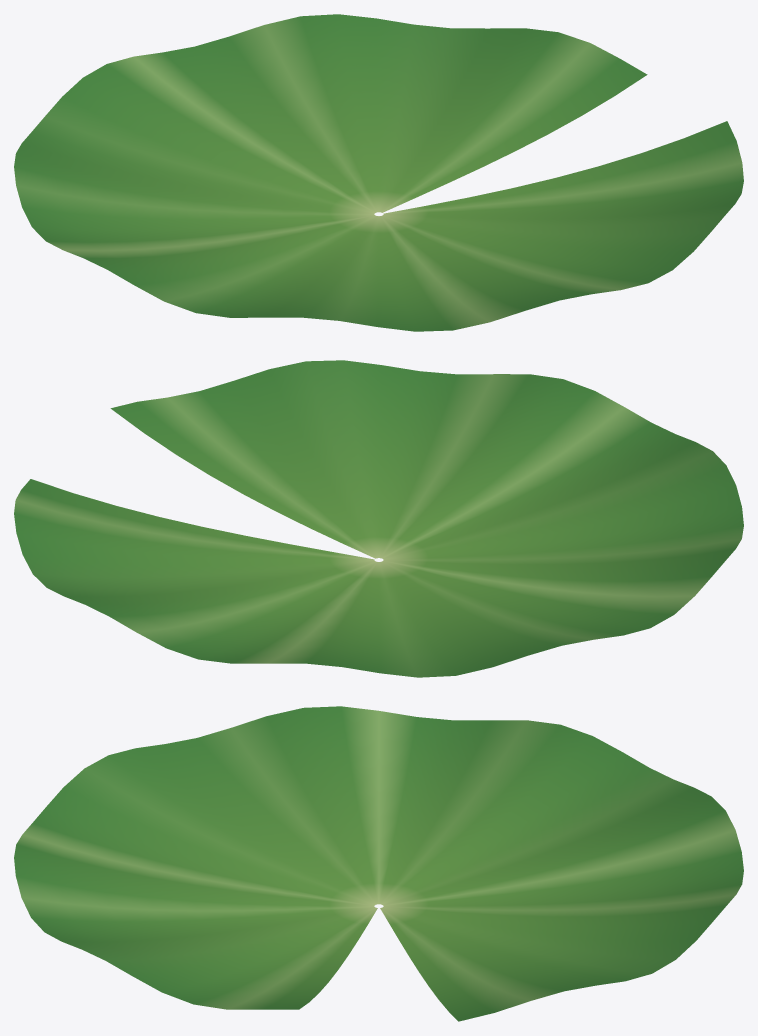
File: lotusLeaf.glb
The picture shows the model from 3 angles, top to bottom: view 1: azimuth 30°, elevation 25°; view 2: azimuth 150°, elevation 25°; view 3: azimuth 270°, elevation 25°; orthographic projection.
Parts seen in each view (by area): view 1: lotus_leaf; view 2: lotus_leaf; view 3: lotus_leaf.
Part boxes in pixels (x1=…): lotus_leaf: x1=14, y1=14, x2=743, y2=331; lotus_leaf: x1=14, y1=360, x2=743, y2=677; lotus_leaf: x1=14, y1=706, x2=743, y2=1021.
Bounding box in the file's own units: 0.7904 × 0.0578 × 0.8.
